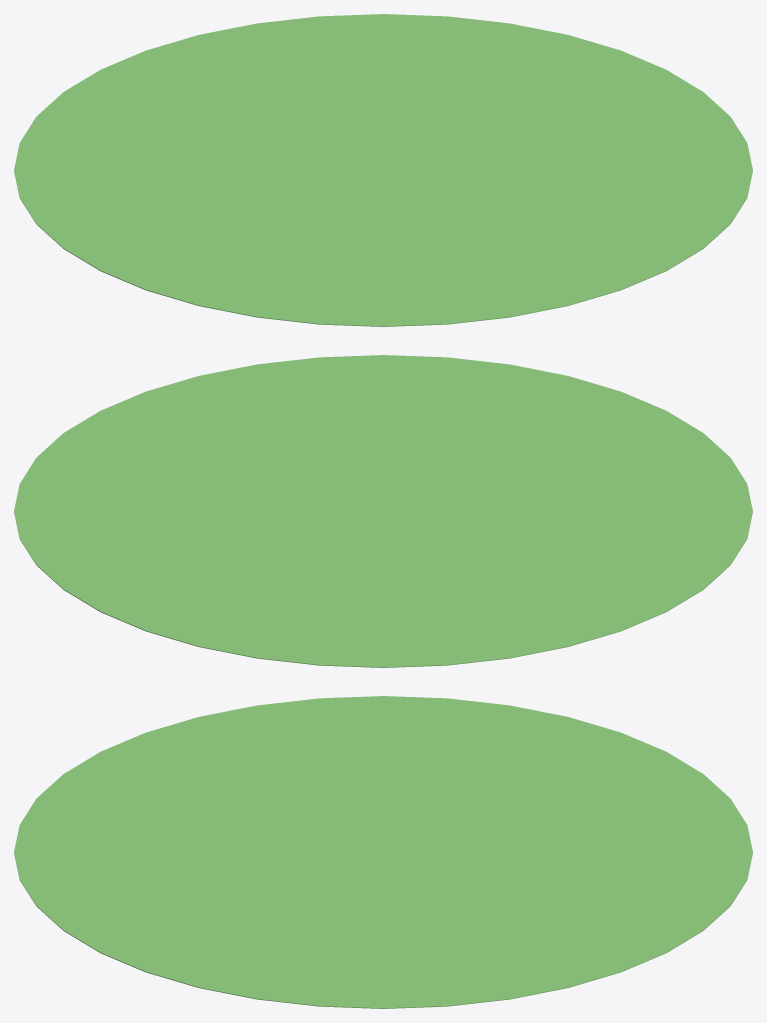
The model's file is Longboarding_Ground.fbx.
3 views of the same model, one above another, from view 1: azimuth 30°, elevation 25°; view 2: azimuth 150°, elevation 25°; view 3: azimuth 270°, elevation 25° (orthographic).
Visible parts, largest first — view 1: Ground; view 2: Ground; view 3: Ground.
Boxes of the visible parts, x1,y1,x2,y2 form: Ground: (14,14,752,326); Ground: (14,355,752,667); Ground: (14,696,752,1008).
Size of the model in its own units: 200 by 0.2 by 200.
